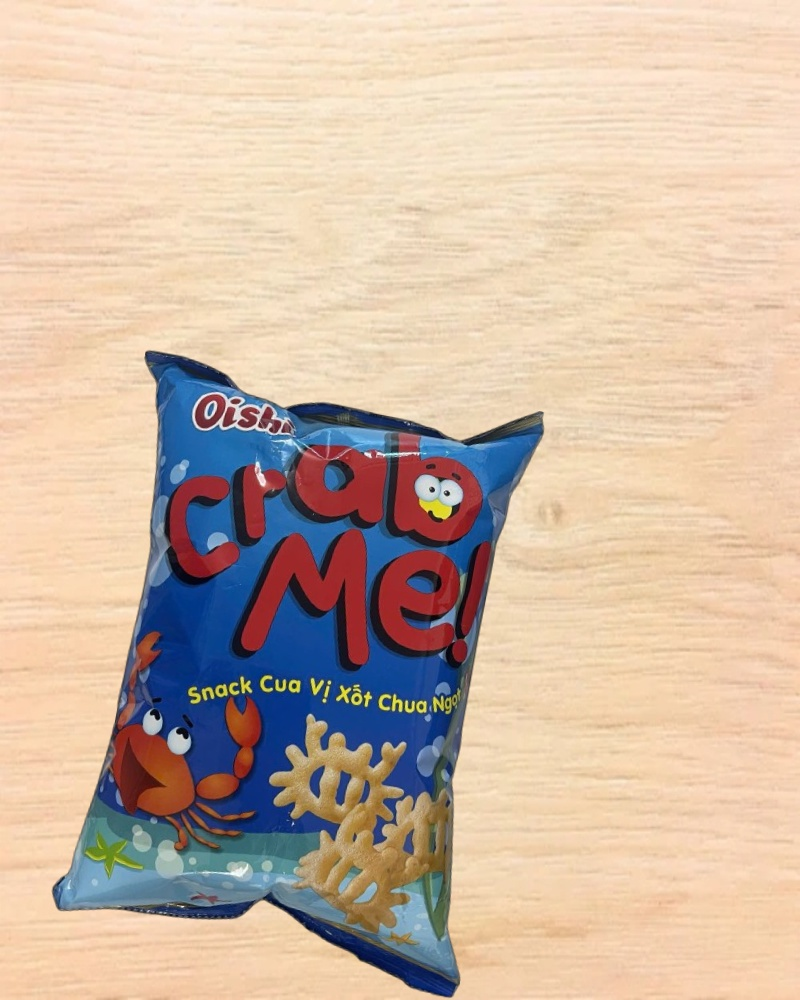Snack chay: (45, 343, 560, 1000)
